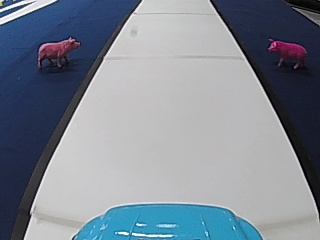pig: (35, 34, 79, 69), (266, 36, 308, 68)
